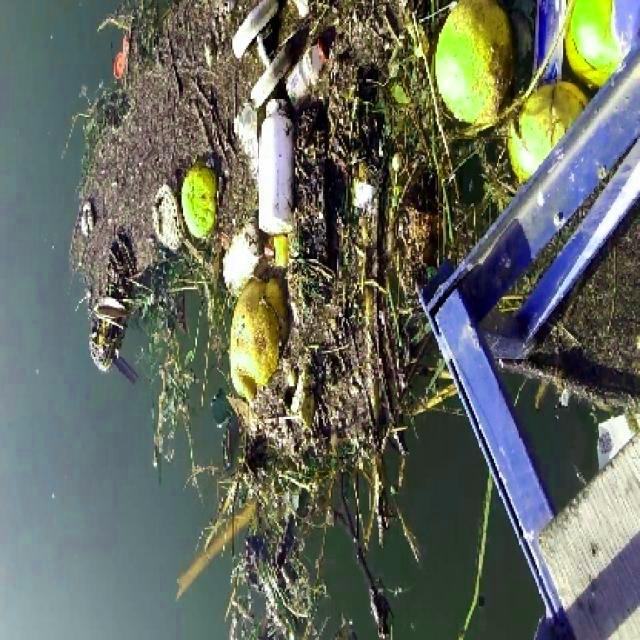Plastic: (248, 98, 300, 236)
